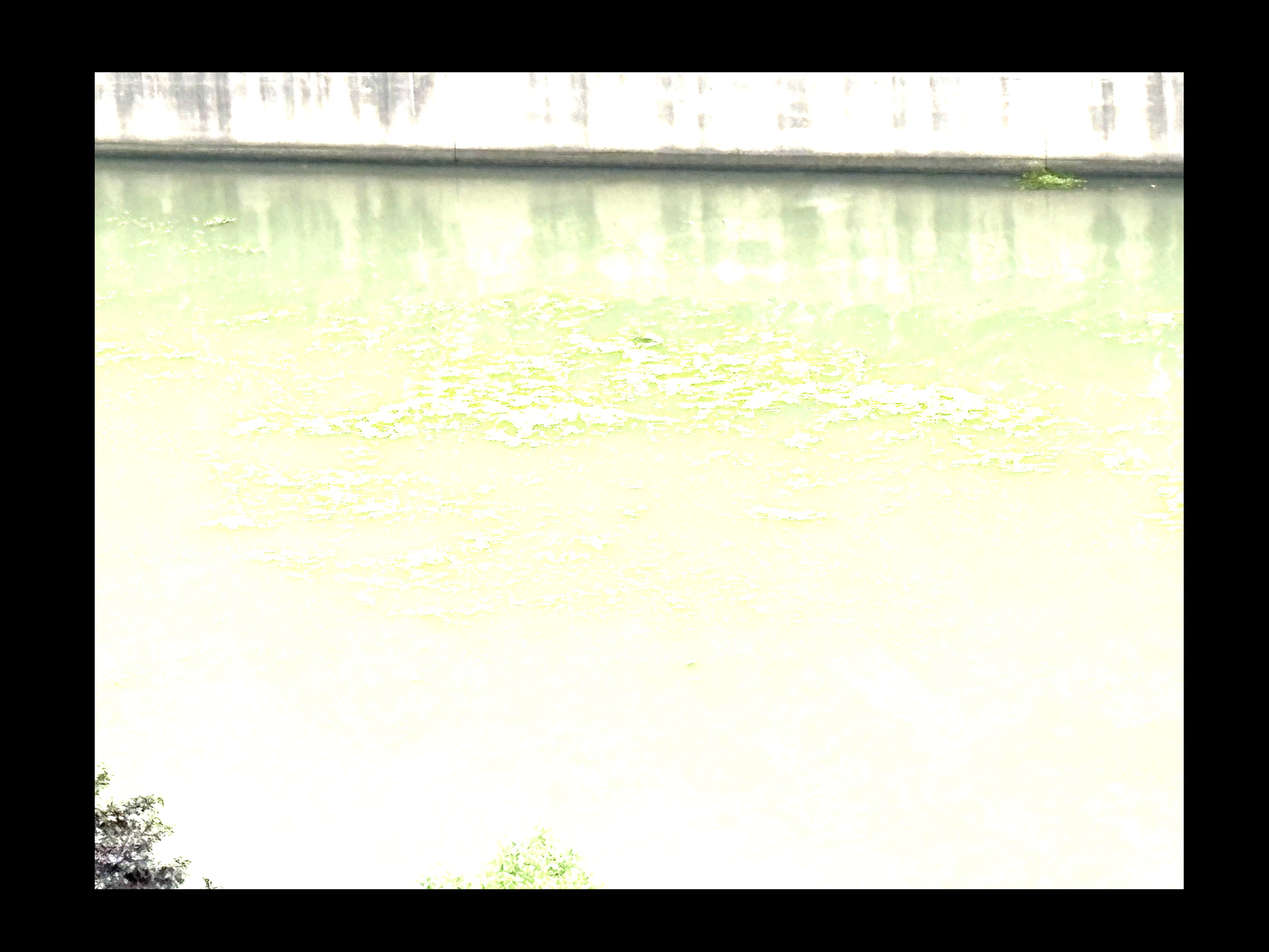Other: (313, 309, 1052, 452), (250, 534, 697, 618), (198, 448, 479, 520), (1093, 450, 1183, 533), (740, 494, 843, 531), (1114, 312, 1176, 349)
